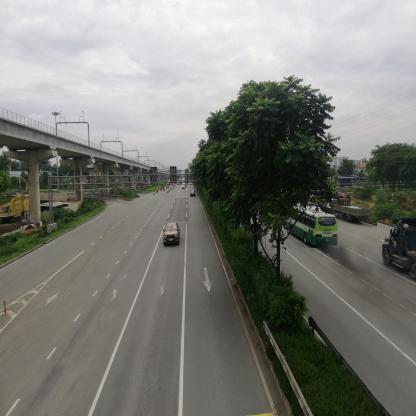bus: (289, 210, 340, 249)
car: (164, 221, 181, 246), (190, 191, 195, 198)
container: (378, 220, 416, 273)
motorbike: (154, 191, 157, 196)
truck: (326, 202, 365, 221), (340, 180, 356, 189)
